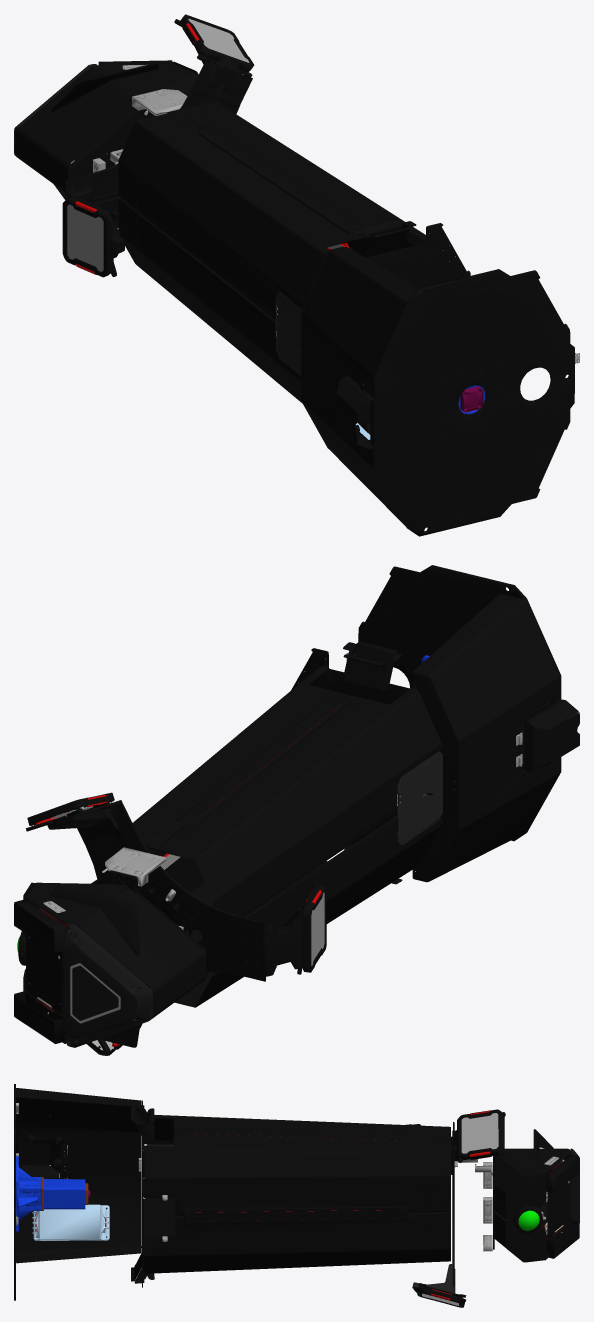
File: 0_1_1_16_red.dae
3 views of the same model, one above another, from view 1: azimuth 30°, elevation 25°; view 2: azimuth 150°, elevation 25°; view 3: azimuth 270°, elevation 25° (orthographic). The views are drawn at different scales.
Parts seen in each view (by area): view 1: node; view 2: node; view 3: node.
Part boxes in pixels (x1,y1,x2,y2): node: (14, 14, 579, 536); node: (14, 565, 579, 1055); node: (14, 1084, 579, 1307).
Bounding box in the file's own units: 0.5311 × 1.47 × 0.5659.
